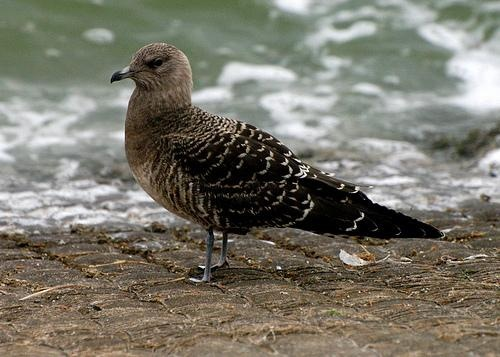bird: (106, 39, 446, 280)
